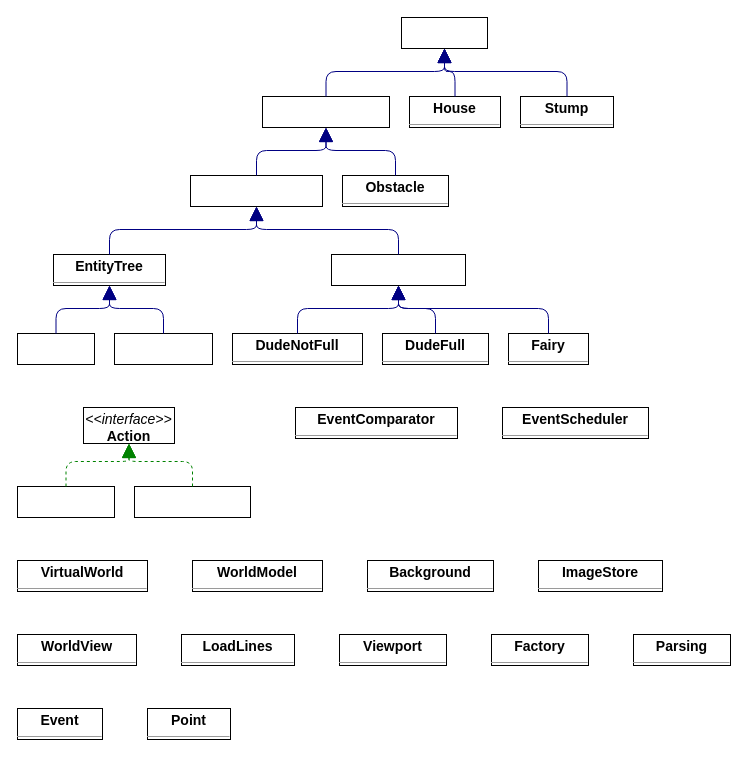
Image size: 748x757. Some labels were removed from this diagram. Each missing label, with the centre of its shape:
"Activity" goes at (x=65, y=502).
"Animation" goes at (x=192, y=502).
"Entity" goes at (x=444, y=32).
"EntityAction" goes at (x=326, y=112).
"EntityActivity" goes at (x=256, y=190).
"EntityMoving" goes at (x=398, y=270).
"Sapling" goes at (x=163, y=348).
"Tree" goes at (x=55, y=348).
